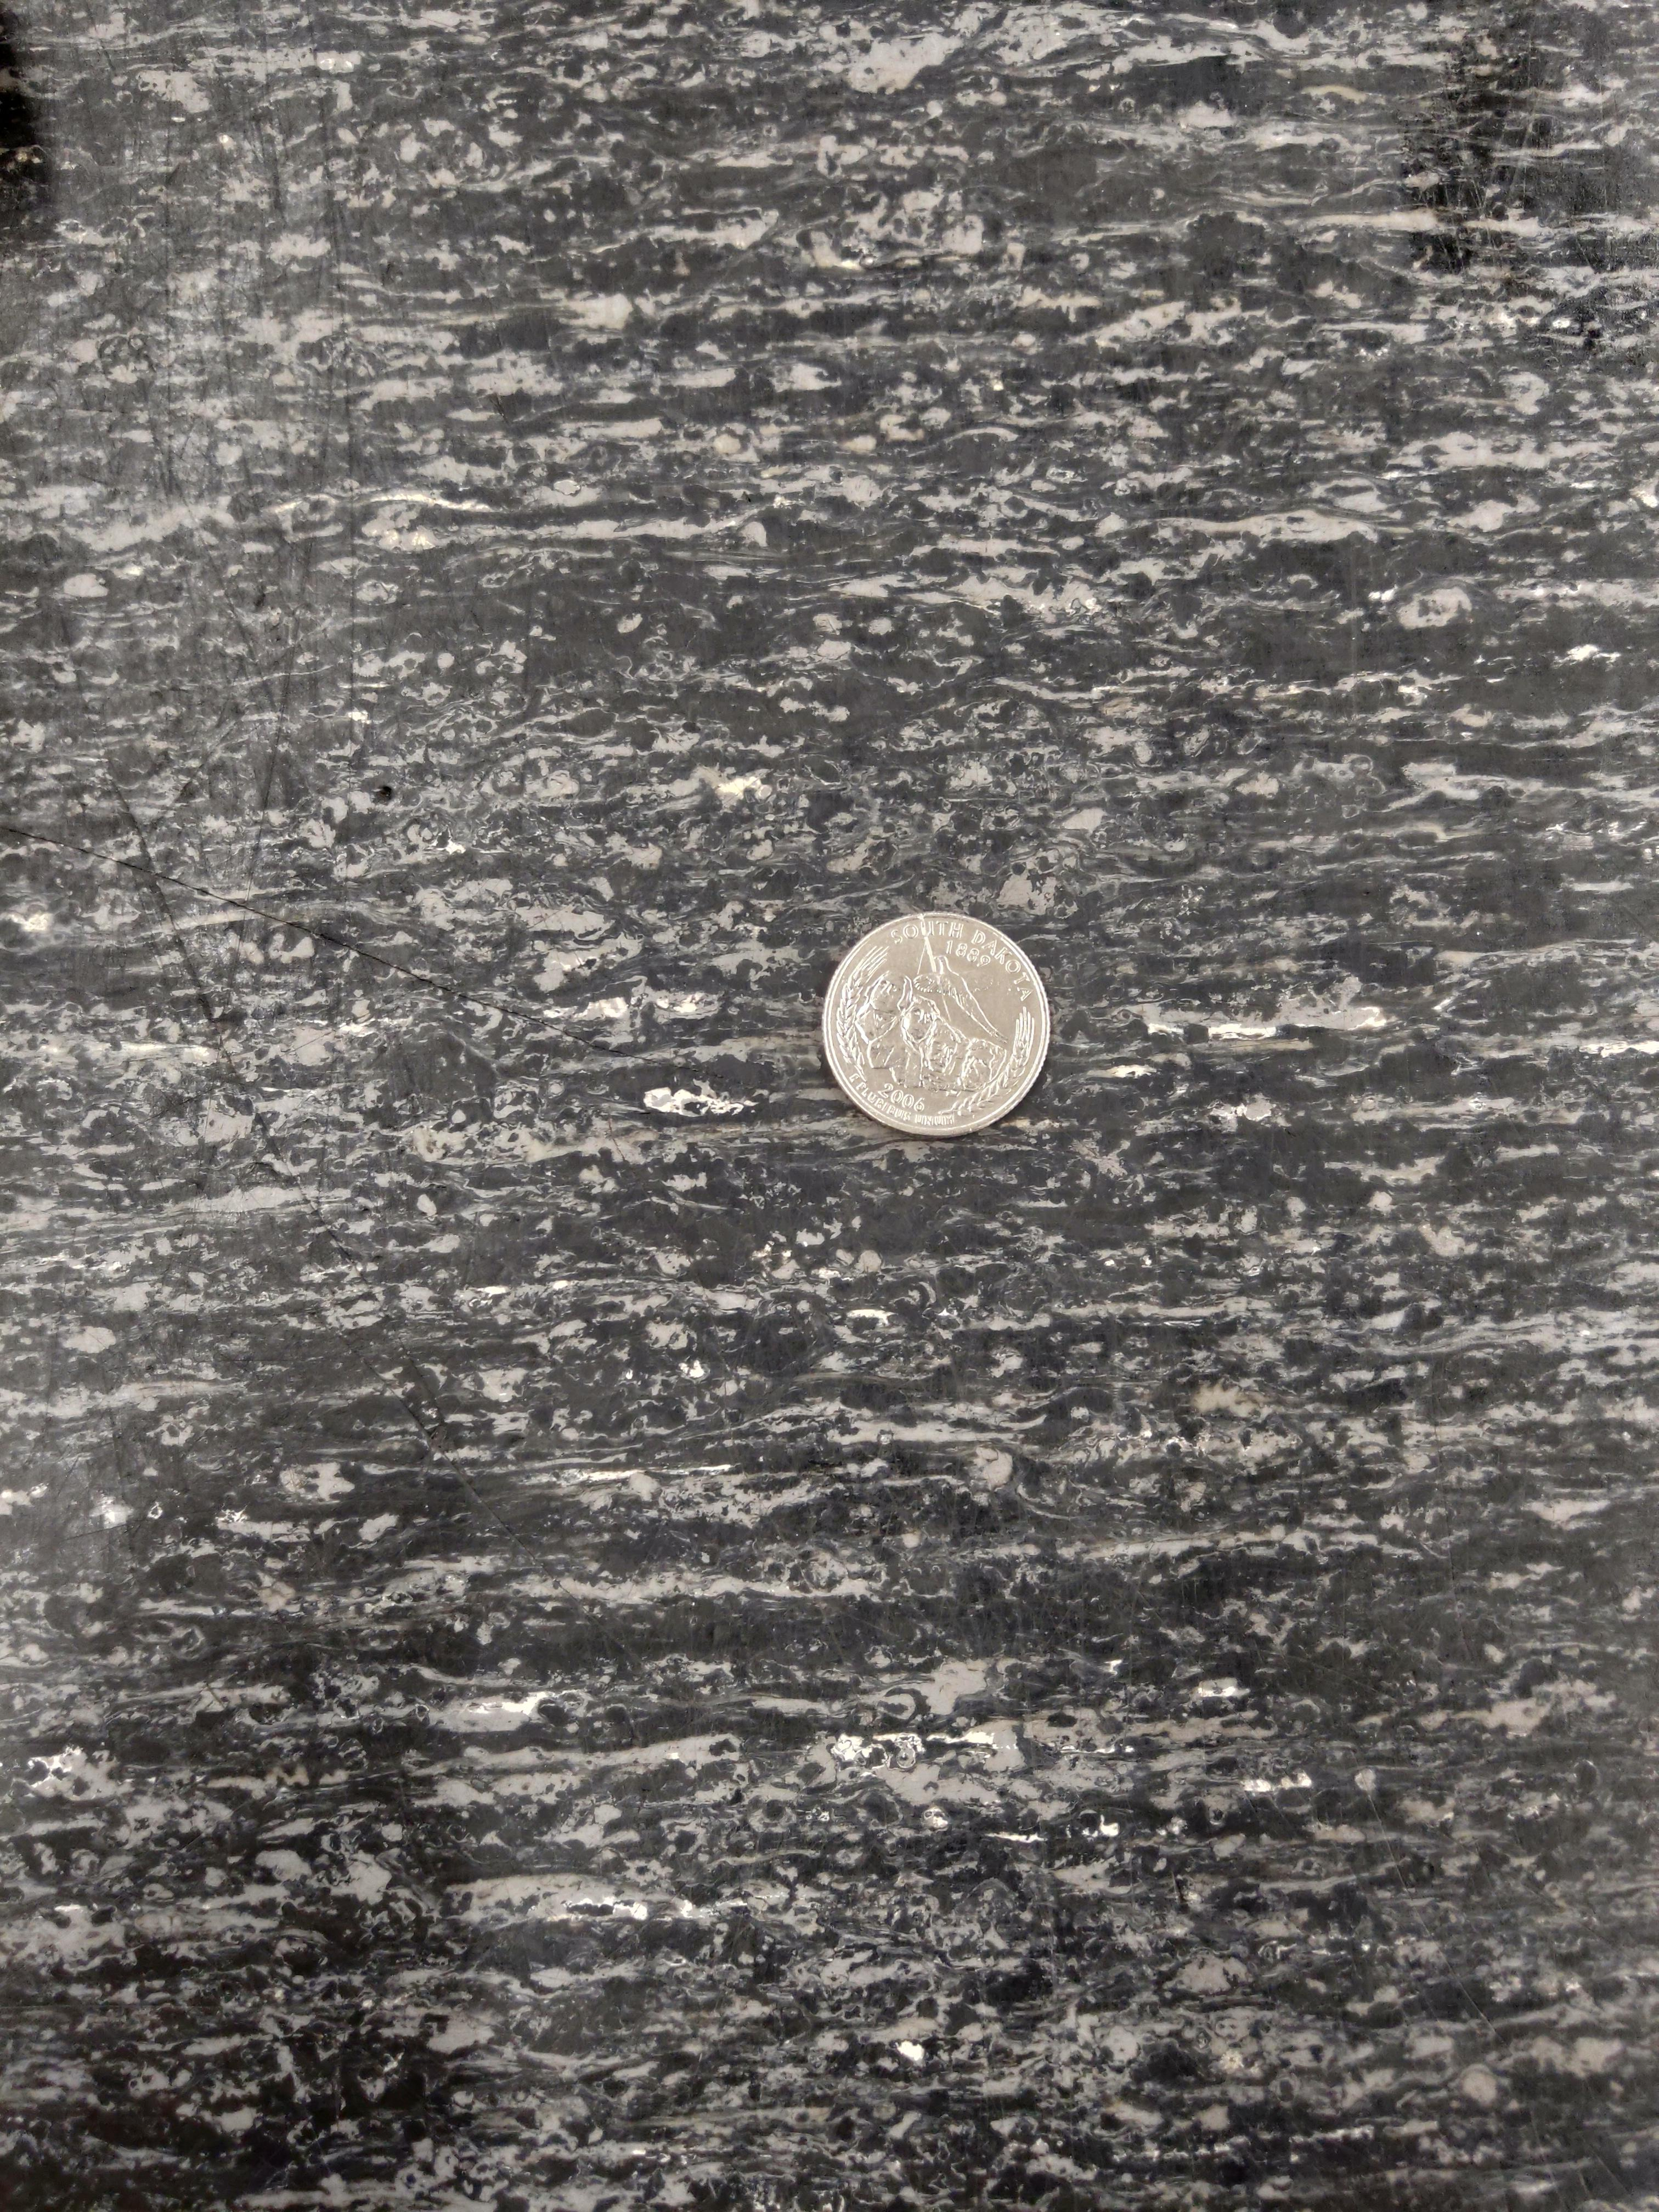Quarter: (819, 911, 1053, 1141)
